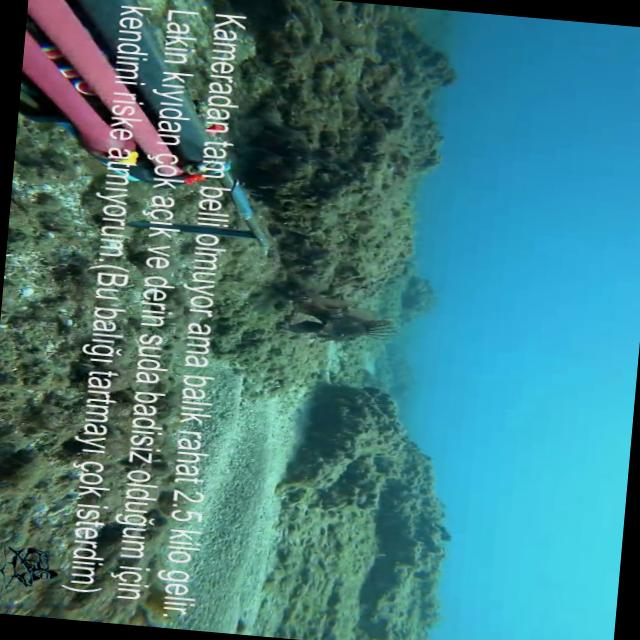Aslan Baligi: (280, 288, 416, 352)
